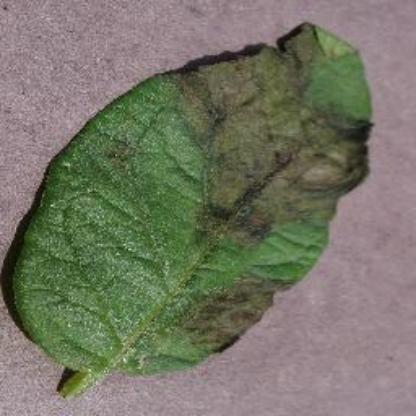Late-Blight: (2, 44, 380, 374)
